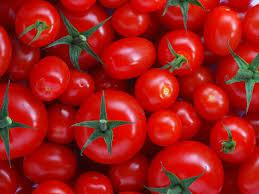tomato: (73, 91, 145, 161), (141, 142, 223, 191), (1, 81, 47, 162), (52, 11, 110, 69), (95, 37, 157, 82), (218, 46, 256, 112), (156, 29, 205, 79), (208, 116, 259, 164), (201, 5, 243, 60), (23, 145, 82, 183), (15, 4, 61, 49), (133, 72, 181, 113), (105, 150, 150, 190), (30, 58, 68, 102), (4, 36, 41, 81), (193, 79, 231, 122), (42, 100, 77, 144), (109, 4, 150, 36), (148, 110, 180, 146)
